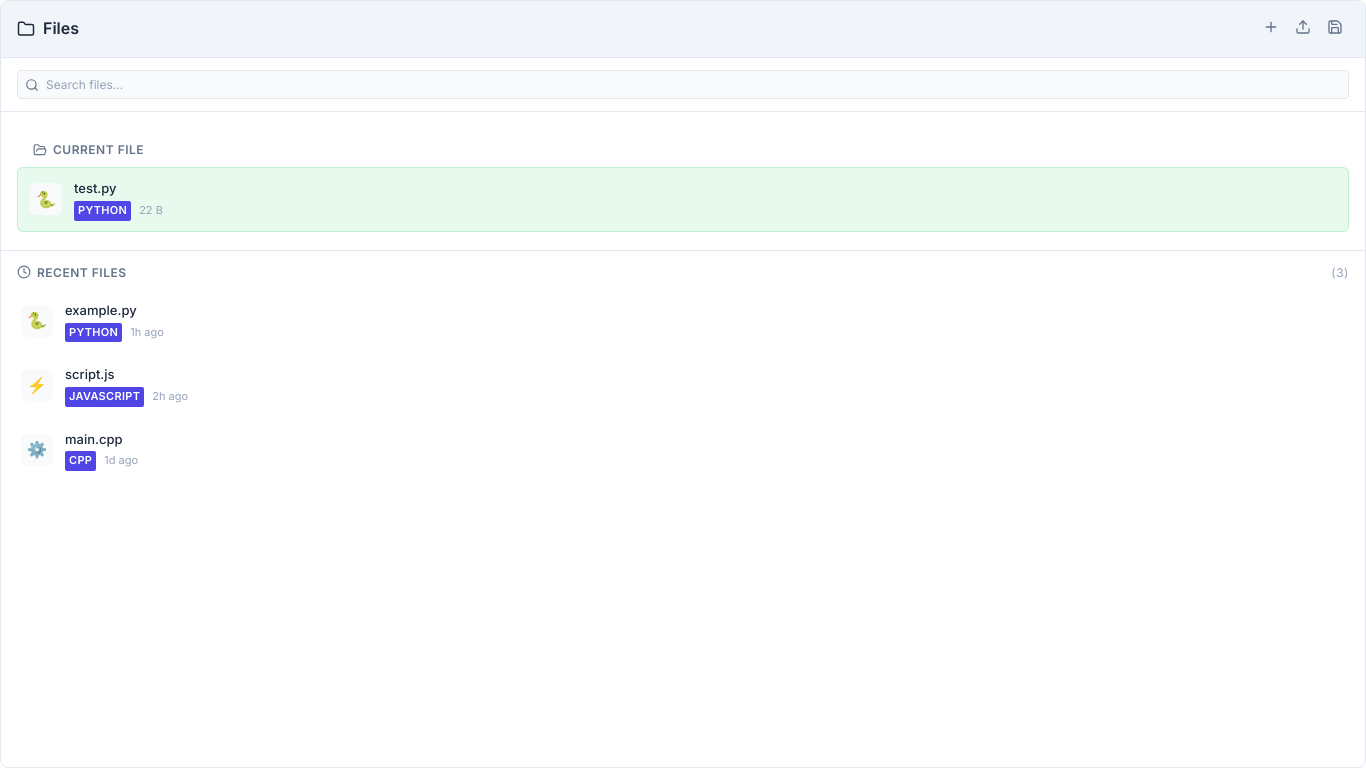
FileManager Component › Search Functionality › should filter files by name
Type "script" into the field with placeholder "Search files..." at (683, 84), box [17,70,1349,99]
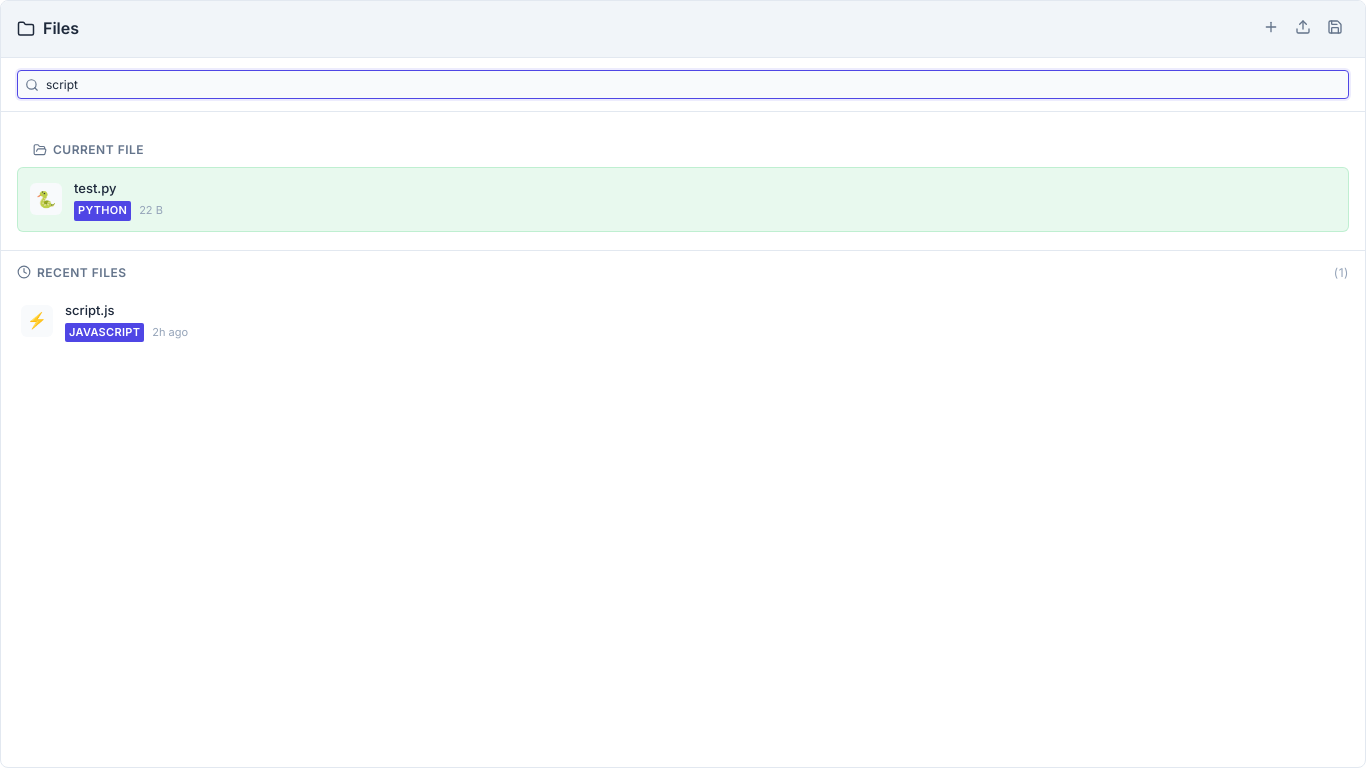
Expected: the text "script.js" is shown, [65,302,115,318]
Result: the text "example.py" is gone
Result: the text "main.cpp" is gone
